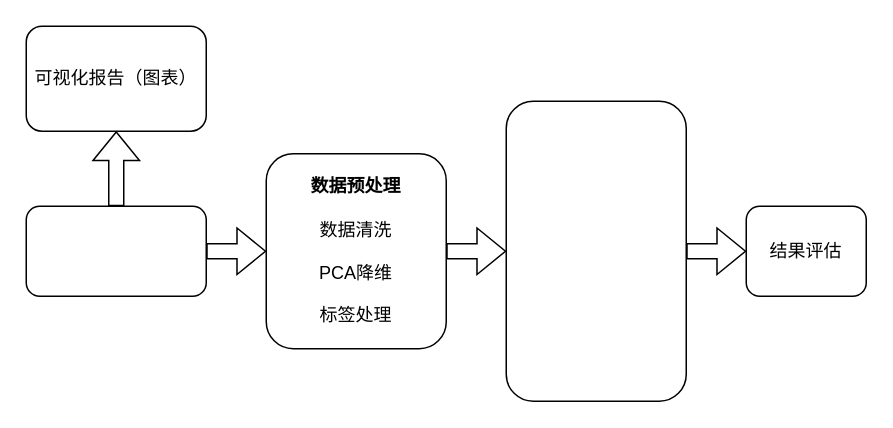
Some shapes in this 893 by 428 pixel diagram are drawn without their labels. Each missing label, with the centre of its shape:
KDD 数据集: point (115, 250)
分 类 模 型 朴素贝叶斯分类器 随机森林分类器 SVM分类器 MLP .......: point (595, 250)
